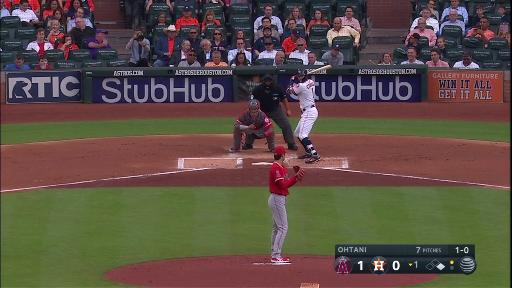pitcher: (268, 147, 305, 263)
